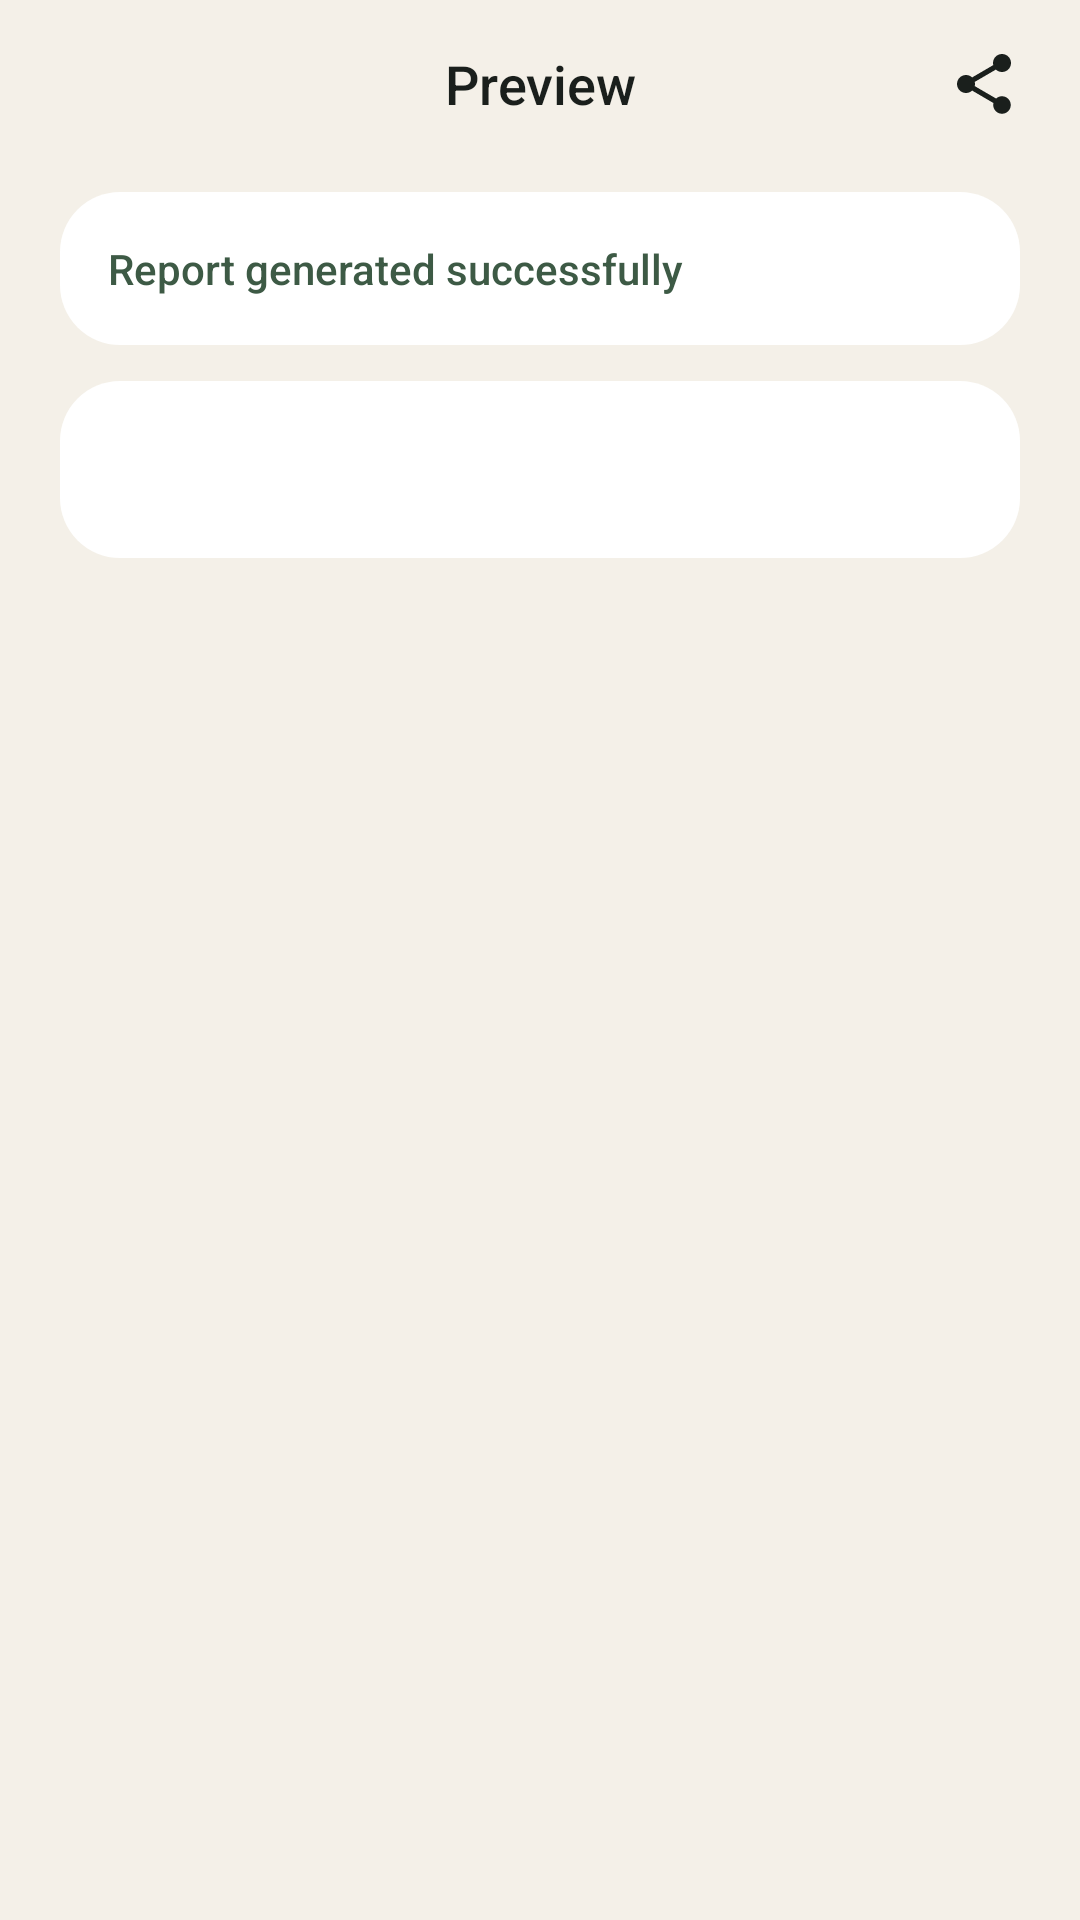

Screen size 1080x1920. Icon name, then its center in pixels as [x,y]:
Share: [984,84]
